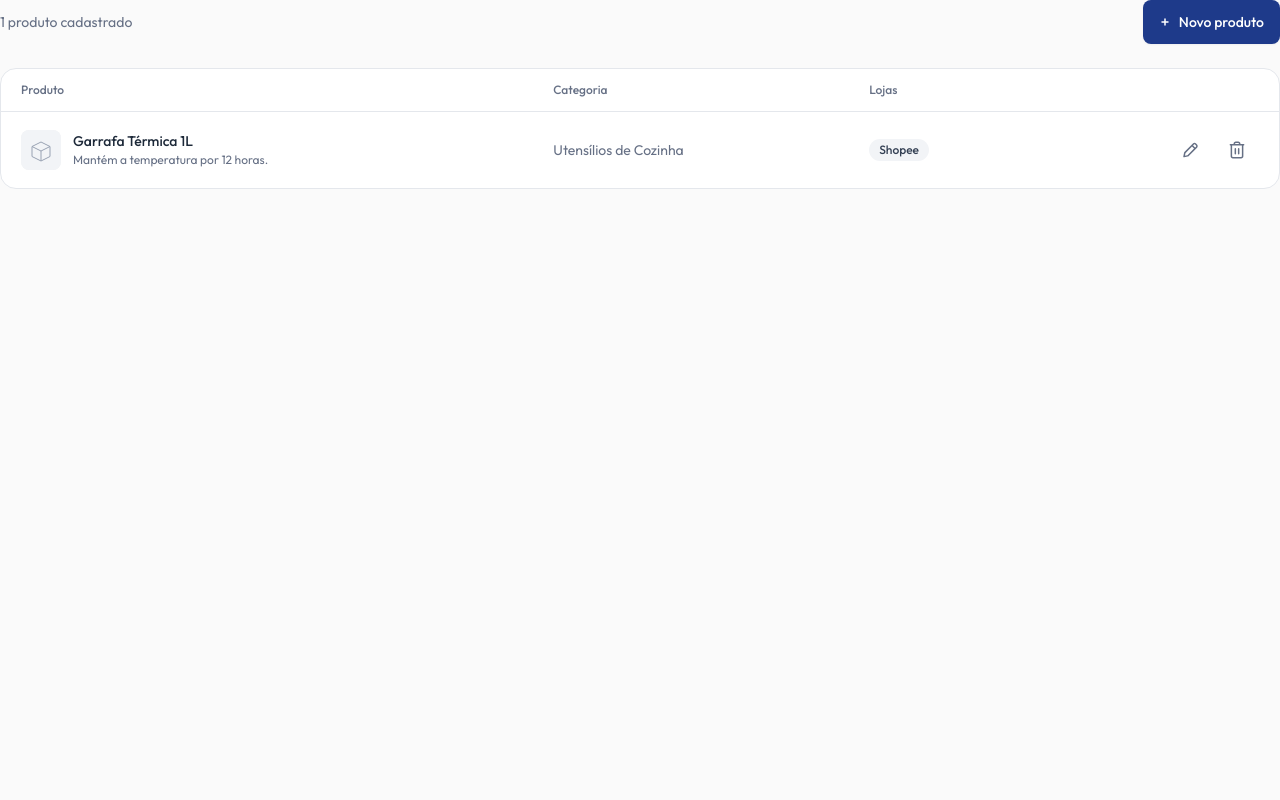
ProductAdminPanel › keeps the store links of a product after editing it
Click the button named "Editar Garrafa Térmica 1L".
click(1189, 150)  # box [1167,128,1211,172]
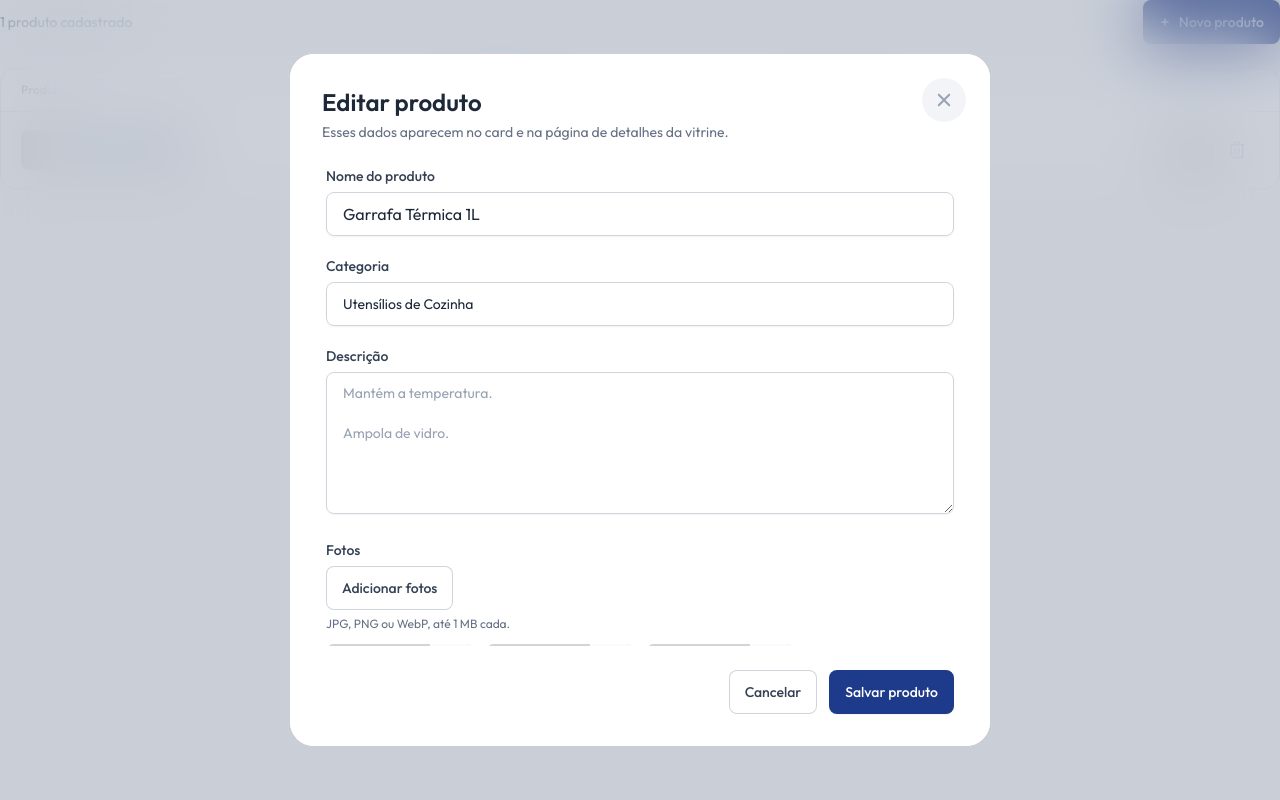
Replace the text in the field labelled "Nome do produto" with "Garrafa Inox" at (640, 214), box [326,192,954,236]
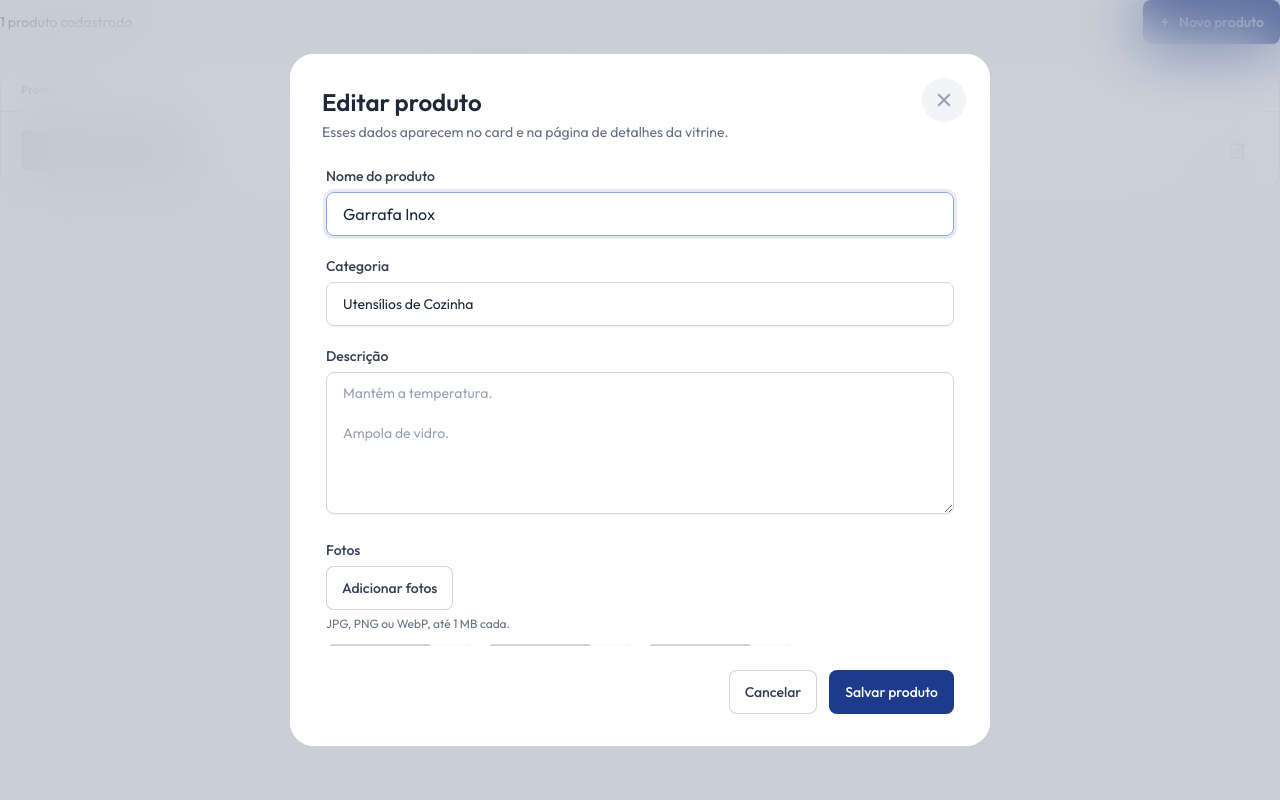
Click the button "Salvar produto".
click(892, 692)  # box [829,670,954,714]
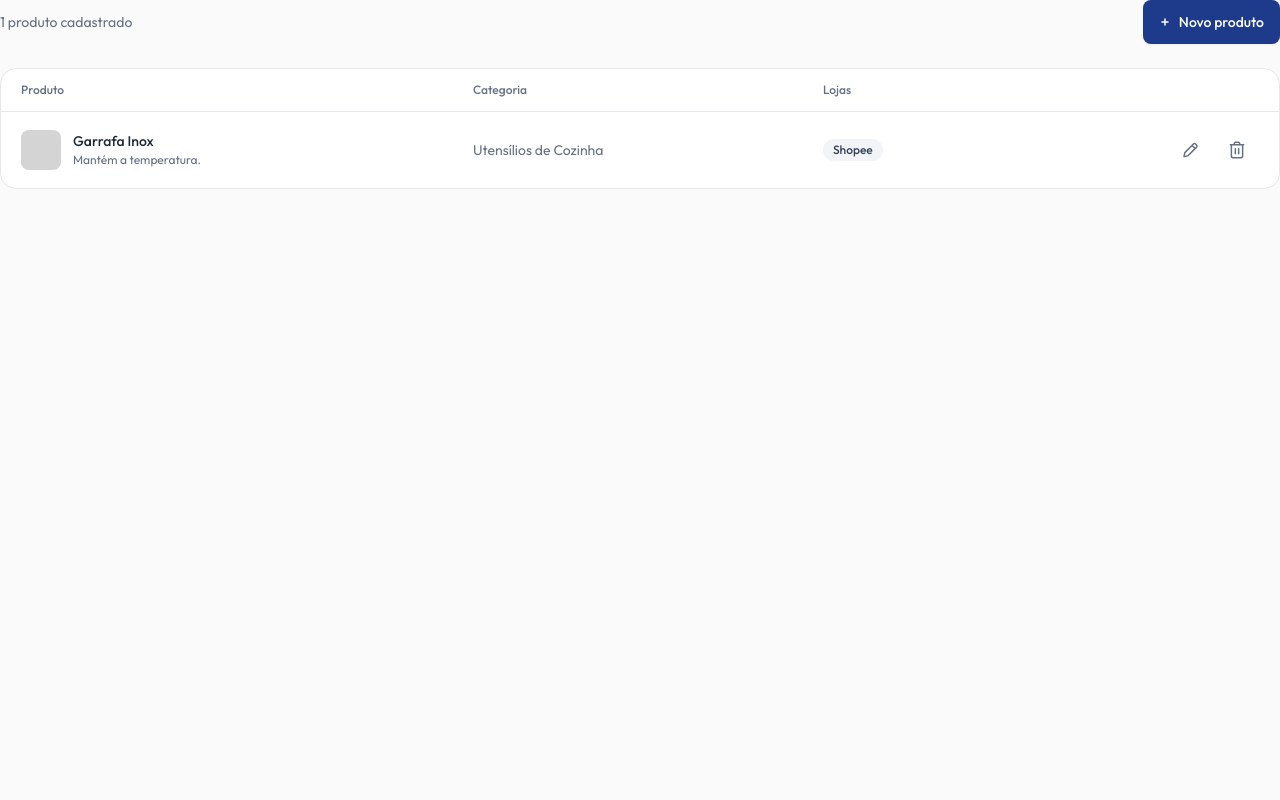
Expected: the text "Shopee" is shown, [823,139,883,161]
Expected: the link "Garrafa Inox" is shown, [73,132,154,150]
